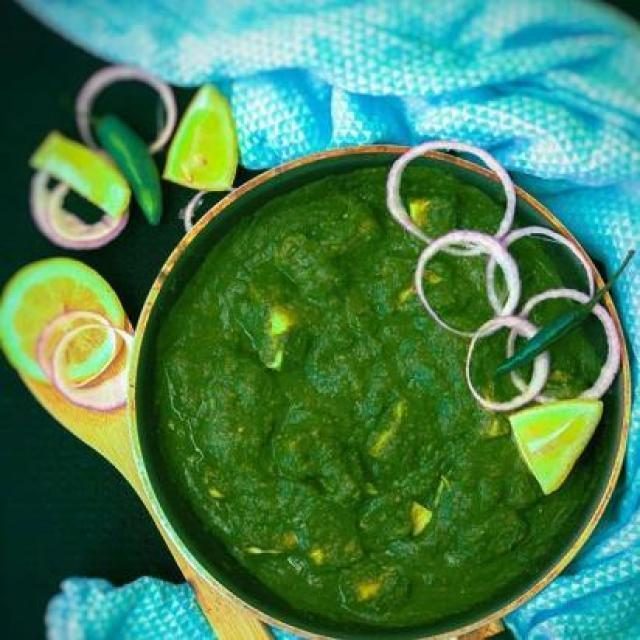palakpaneer: (127, 152, 626, 640)
